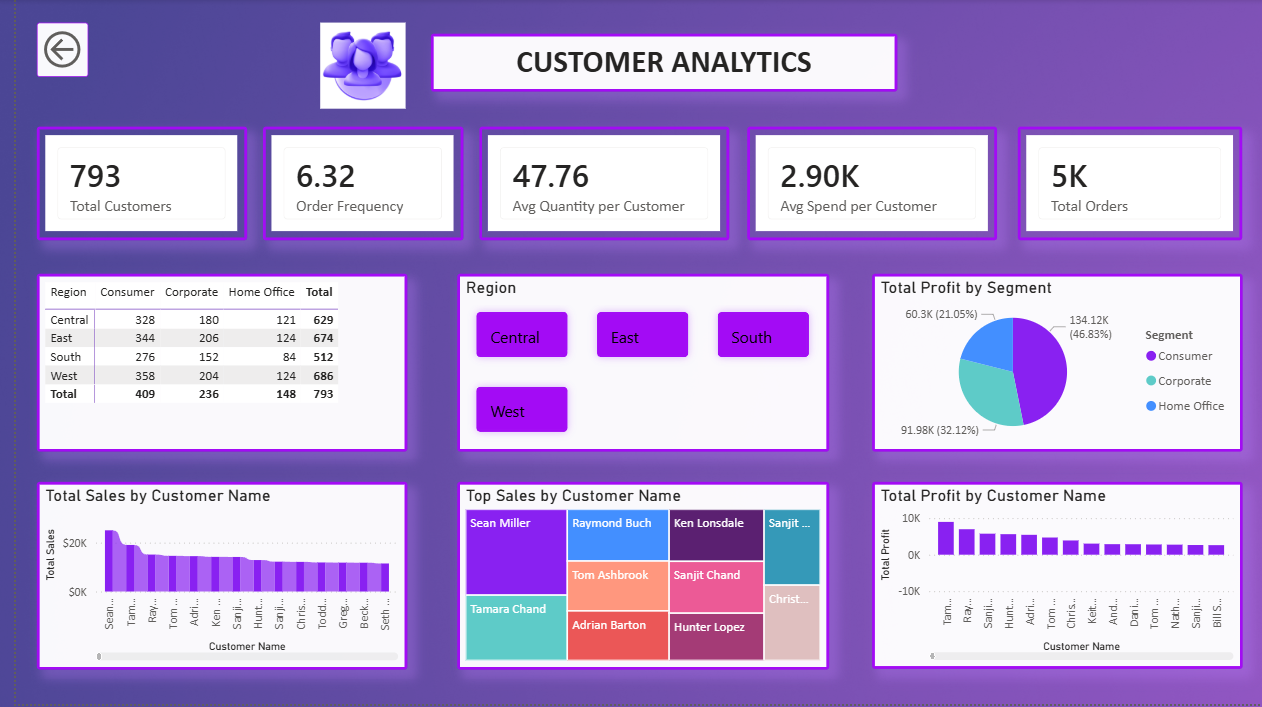

The page's visual inventory and layout, read from the dashboard file:
{"tool":"powerbi","page":{"name":"Customer Analytics","canvas":[1280,720],"ordinal":3},"visuals":[{"type":"textbox","box":[424.2,36,476.6,59],"z":0},{"type":"cardVisual","fields":{"Data":["Category_details.Order Frequency"]},"box":[252.2,131,204.7,116.3],"z":1000},{"type":"cardVisual","fields":{"Data":["Category_details.Total Orders"]},"box":[1023.5,131,229.3,116.3],"z":2000},{"type":"cardVisual","fields":{"Data":["Category_details.Total Customers"]},"box":[21.3,131,214.5,116.3],"z":3000},{"type":"cardVisual","fields":{"Data":["Category_details.Avg Spend per Customer"]},"box":[746.8,131,255.5,116.3],"z":4000},{"type":"cardVisual","fields":{"Data":["Category_details.Avg Units per Customer"]},"box":[473.3,131,255.5,116.3],"z":5000},{"type":"clusteredColumnChart","fields":{"Category":["Data.Customer Name"],"Y":["Category_details.Total Profit"]},"box":[874.2,493.1,378.3,191.3],"z":6000},{"type":"pieChart","fields":{"Category":["Data.Segment"],"Y":["Category_details.Total Profit"]},"box":[874.5,280,378.3,181.8],"z":7000},{"type":"treemap","title":"Top Sales by Customer Name","fields":{"Group":["Data.Customer Name"],"Values":["Category_details.Total Sales"]},"box":[450,493.3,380,191.7],"z":8000},{"type":"ribbonChart","fields":{"Category":["Data.Customer Name"],"Y":["Category_details.Total Sales"]},"box":[21.3,492.9,378.3,191.6],"z":9000},{"type":"pivotTable","fields":{"Rows":["Data.Region"],"Columns":["Data.Segment"],"Values":["Category_details.Total Customers"]},"box":[21.3,280,378.3,181.8],"z":10000},{"type":"advancedSlicerVisual","fields":{"Values":["Data.Region"]},"box":[450,280,380,181.7],"z":11000},{"type":"actionButton","box":[21.3,24.1,52.4,55.3],"z":12000},{"type":"image","box":[290.5,24.1,127.5,87.8],"z":13000}]}

Visuals, with their boxes in screenshot pixels (x1, y1, x2, y2), scaled from the page's 1280x720 canvas onto the 1262x707 screenshot:
textbox: [left=418, top=35, right=888, bottom=93]
cardVisual - Category_details.Order Frequency: [left=249, top=129, right=450, bottom=243]
cardVisual - Category_details.Total Orders: [left=1009, top=129, right=1235, bottom=243]
cardVisual - Category_details.Total Customers: [left=21, top=129, right=232, bottom=243]
cardVisual - Category_details.Avg Spend per Customer: [left=736, top=129, right=988, bottom=243]
cardVisual - Category_details.Avg Units per Customer: [left=467, top=129, right=719, bottom=243]
clusteredColumnChart - Data.Customer Name x Category_details.Total Profit: [left=862, top=484, right=1235, bottom=672]
pieChart - Data.Segment x Category_details.Total Profit: [left=862, top=275, right=1235, bottom=453]
"Top Sales by Customer Name" treemap: [left=444, top=484, right=818, bottom=673]
ribbonChart - Data.Customer Name x Category_details.Total Sales: [left=21, top=484, right=394, bottom=672]
pivotTable - Data.Region x Data.Segment: [left=21, top=275, right=394, bottom=453]
advancedSlicerVisual - Data.Region: [left=444, top=275, right=818, bottom=453]
actionButton: [left=21, top=24, right=73, bottom=78]
image: [left=286, top=24, right=412, bottom=110]
